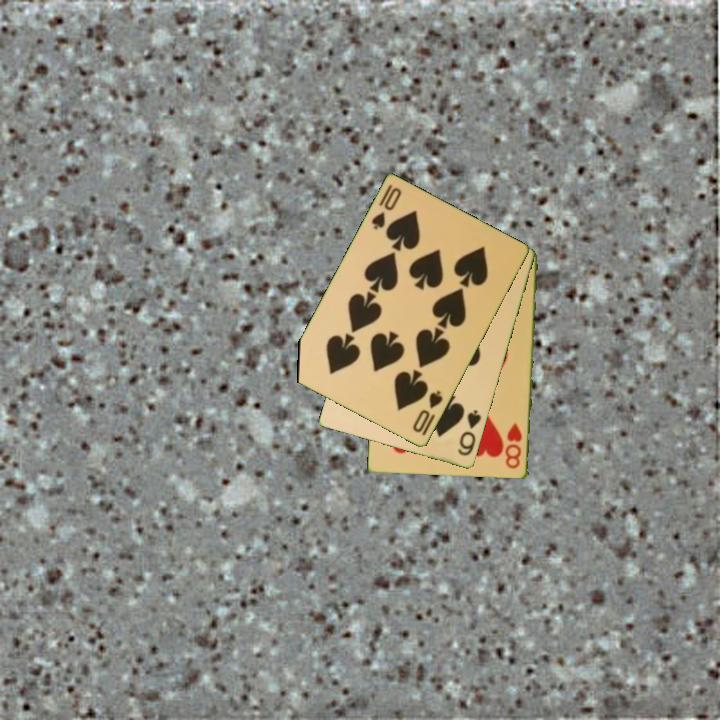10s: (368, 181, 405, 233), (409, 387, 446, 436)
6s: (454, 407, 484, 459)
8h: (503, 420, 525, 472)
